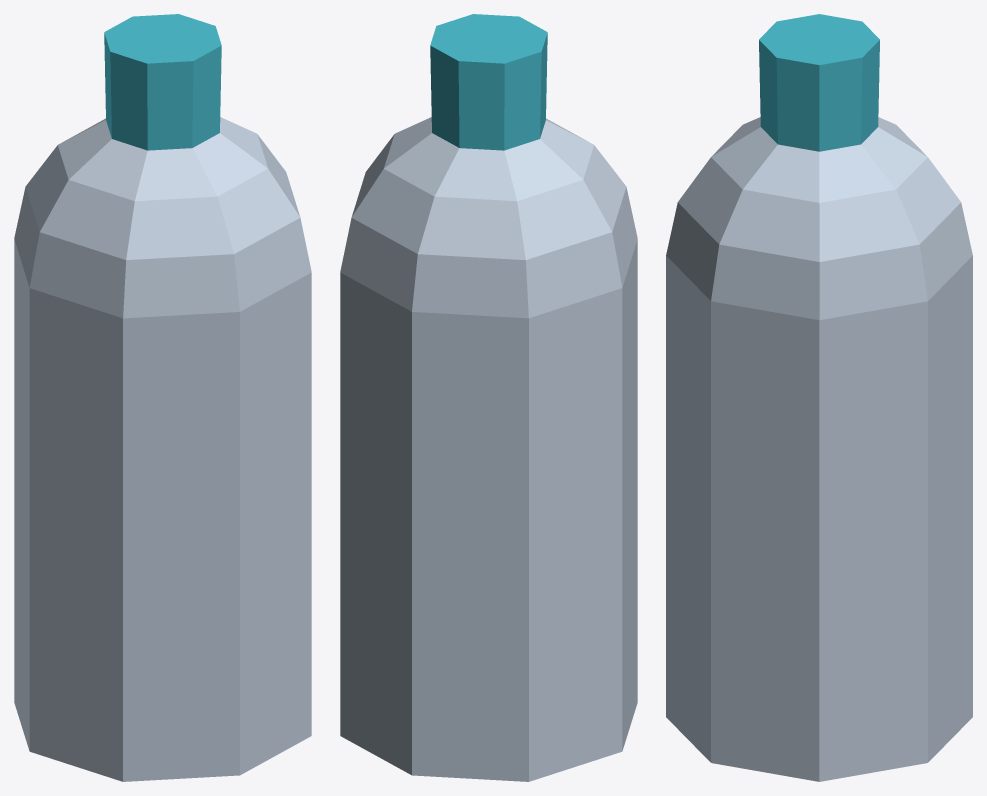
Rendered from Shampoo.fbx.
The picture shows the model from 3 angles, left to right: view 1: azimuth 30°, elevation 25°; view 2: azimuth 150°, elevation 25°; view 3: azimuth 270°, elevation 25°; orthographic projection.
Visible parts, largest first — view 1: Shampoo; view 2: Shampoo; view 3: Shampoo.
Part boxes in pixels (left/top/right/bottom): Shampoo: left=14, top=14, right=311, bottom=781; Shampoo: left=340, top=14, right=637, bottom=781; Shampoo: left=666, top=14, right=972, bottom=781.
Bounding box in the file's own units: 2 × 4.87 × 2.
